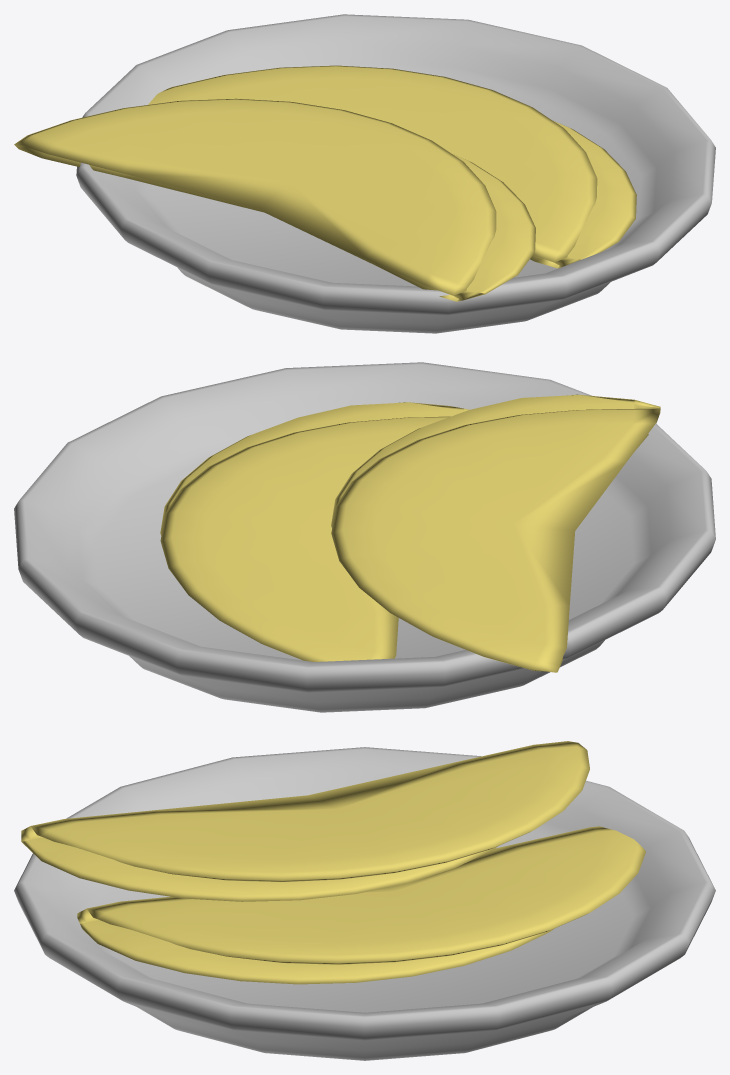
Rendered from dosa.fbx.
3 renders of one model, top to bottom at view 1: azimuth 30°, elevation 25°; view 2: azimuth 150°, elevation 25°; view 3: azimuth 270°, elevation 25°, orthographic. The views are drawn at different scales.
Parts seen in each view (by area): view 1: dosa plate, Dosa.002, Dosa; view 2: dosa plate, Dosa.002, Dosa; view 3: dosa plate, Dosa.002, Dosa.
Part boxes in pixels (x1=…): dosa plate: x1=76, y1=14, x2=715, y2=333; Dosa.002: x1=14, y1=98, x2=535, y2=301; Dosa: x1=148, y1=65, x2=636, y2=268; dosa plate: x1=14, y1=362, x2=715, y2=712; Dosa.002: x1=331, y1=394, x2=660, y2=672; Dosa: x1=160, y1=402, x2=469, y2=661; dosa plate: x1=14, y1=747, x2=715, y2=1060; Dosa.002: x1=21, y1=741, x2=589, y2=901; Dosa: x1=77, y1=826, x2=645, y2=984.
Size of the model in its own units: 212 by 34.77 by 228.
